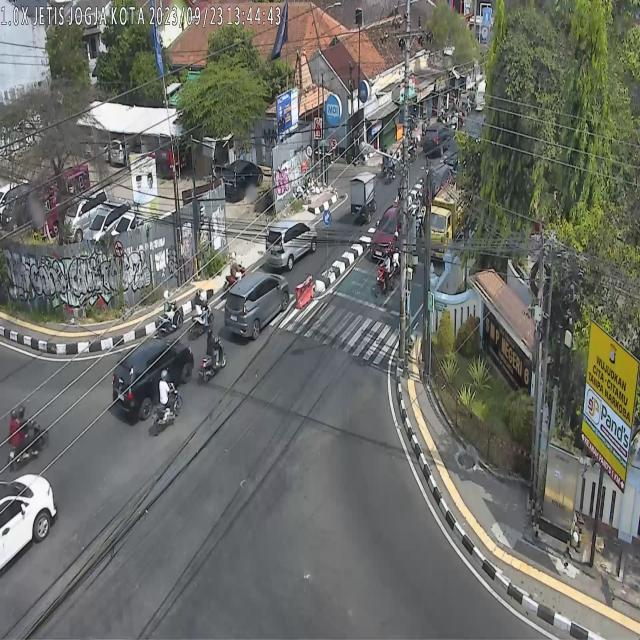car: (112, 337, 194, 416), (0, 469, 58, 574), (224, 271, 290, 342), (266, 217, 317, 270), (371, 206, 402, 262)
motorcycle: (7, 401, 47, 470), (150, 370, 184, 432), (199, 327, 226, 382), (157, 290, 184, 338), (191, 287, 213, 338), (375, 248, 395, 299), (223, 250, 246, 294)
truck: (429, 180, 470, 261)
